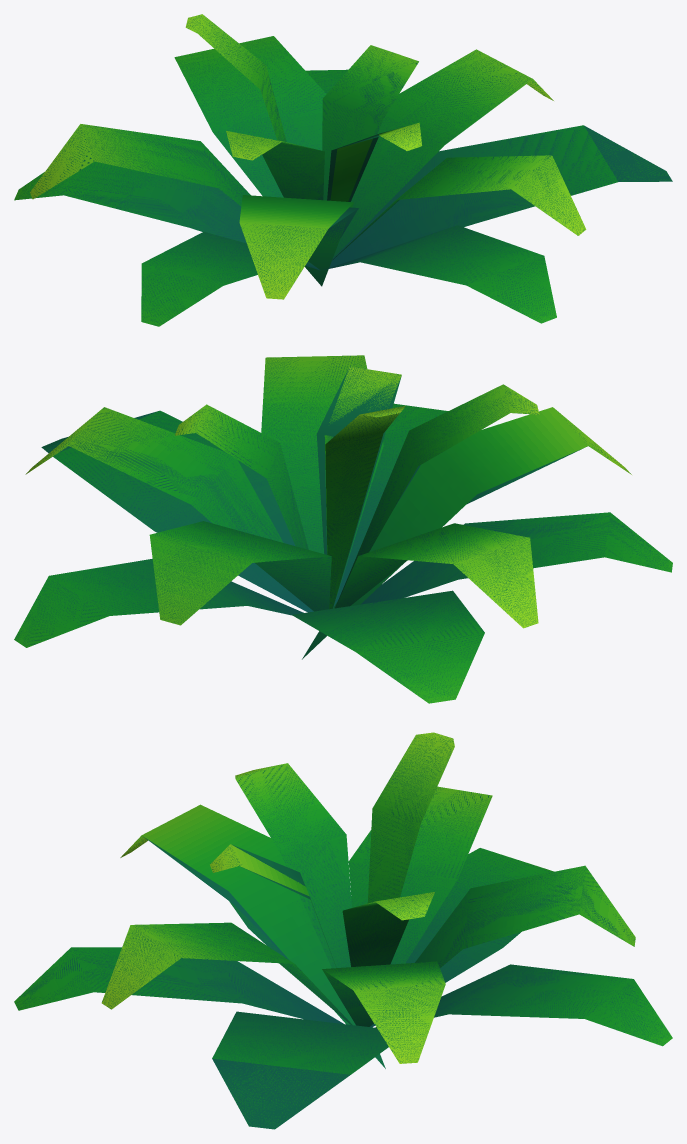
The model's file is Bush_5A.fbx.
3 views of the same model, one above another, from view 1: azimuth 30°, elevation 25°; view 2: azimuth 150°, elevation 25°; view 3: azimuth 270°, elevation 25° (orthographic). The views are drawn at different scales.
Parts seen in each view (by area): view 1: Bush_5A; view 2: Bush_5A; view 3: Bush_5A.
Part boxes in pixels (box(x1,y1,x2,y2)): Bush_5A: box(14, 14, 672, 326); Bush_5A: box(14, 355, 672, 703); Bush_5A: box(14, 732, 672, 1129).
Size of the model in its own units: 0.7097 by 0.3329 by 0.7107.
